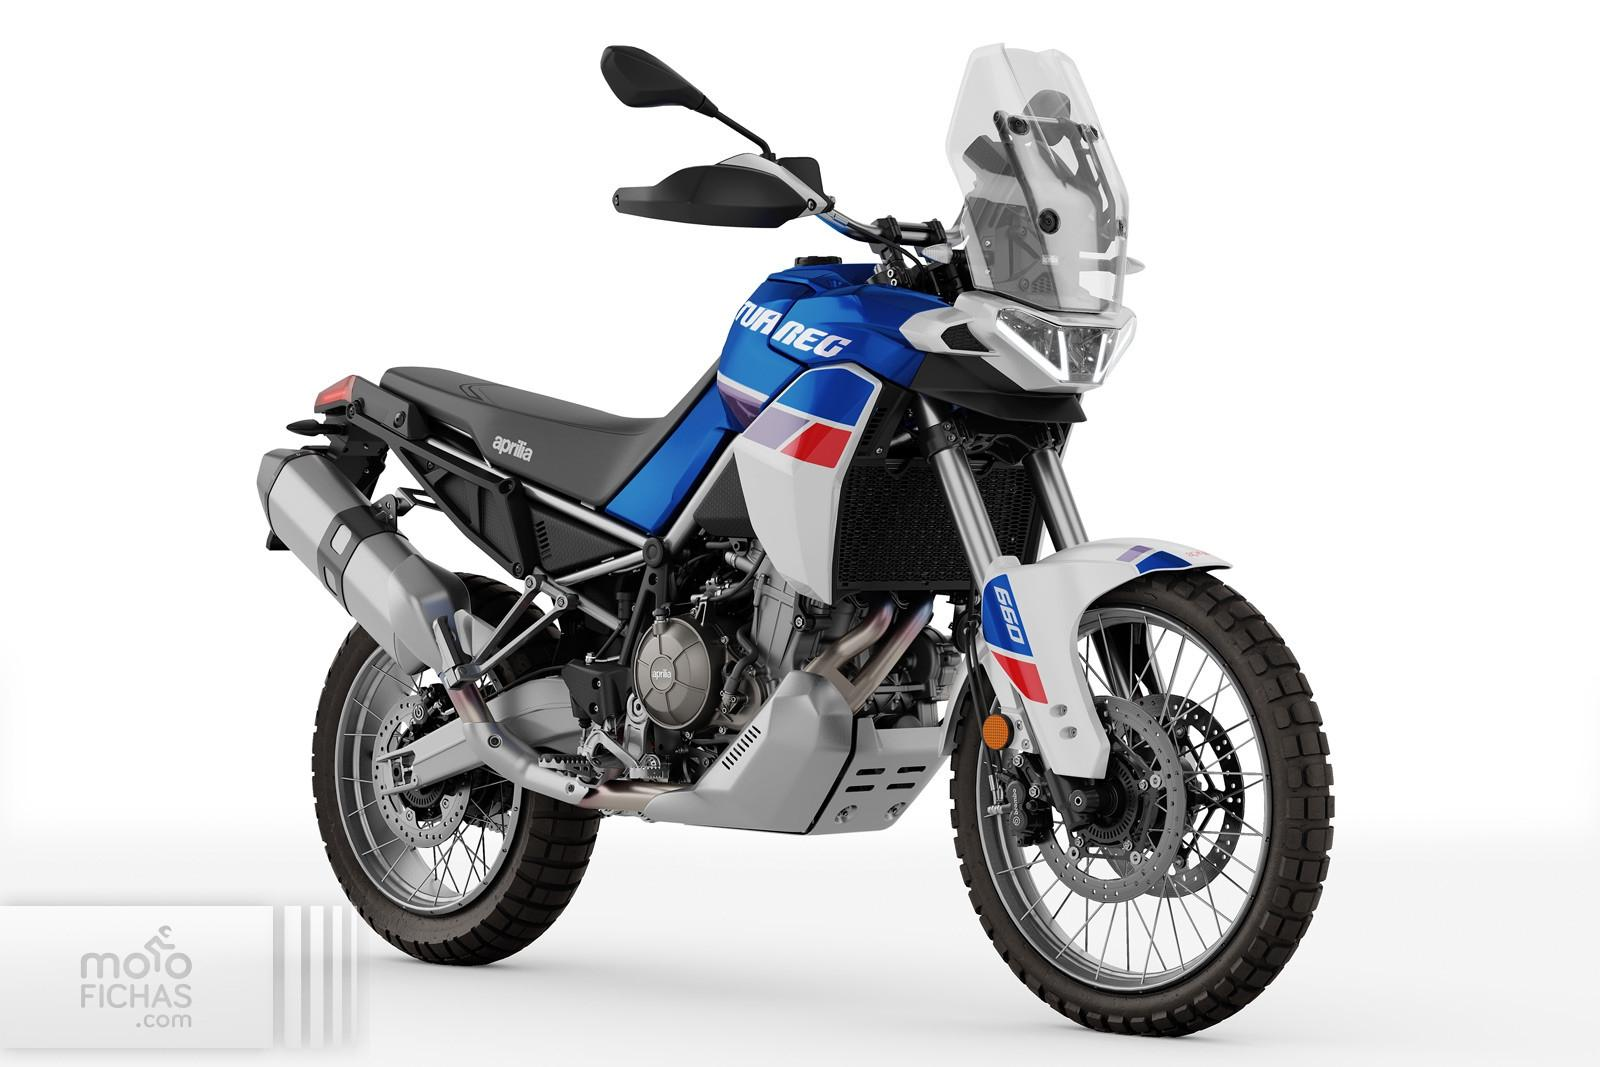engine-chasis: (538, 528, 870, 788), (601, 669, 854, 832), (807, 589, 969, 835)
exhaust: (256, 448, 471, 686), (446, 681, 694, 810), (801, 591, 932, 713)
frontside: (604, 43, 1232, 831)
handlebar: (600, 43, 974, 306)
motorbike: (256, 43, 1335, 1036)
rearside: (287, 375, 657, 701), (376, 717, 485, 795), (486, 675, 582, 754), (265, 529, 290, 551)
seat: (380, 354, 721, 507)
tank: (715, 255, 875, 433)
watermark: (0, 907, 360, 1054)
wheel: (950, 570, 1335, 1036), (312, 624, 601, 966), (833, 216, 930, 294), (963, 572, 990, 732), (483, 664, 565, 703), (981, 740, 1005, 805), (596, 619, 630, 659)
